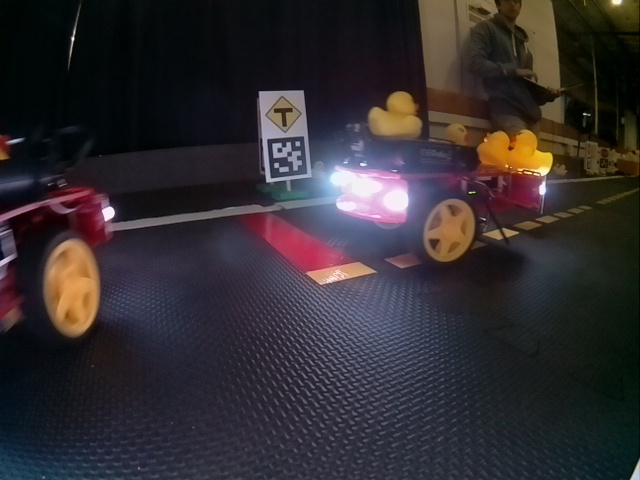Duckie: (369, 92, 421, 136), (513, 129, 552, 174), (480, 130, 508, 166), (444, 123, 469, 145)
Duckiebot: (335, 151, 546, 264), (1, 162, 113, 344)
Intersection sign: (264, 94, 305, 132)
QR code: (265, 136, 309, 178)
